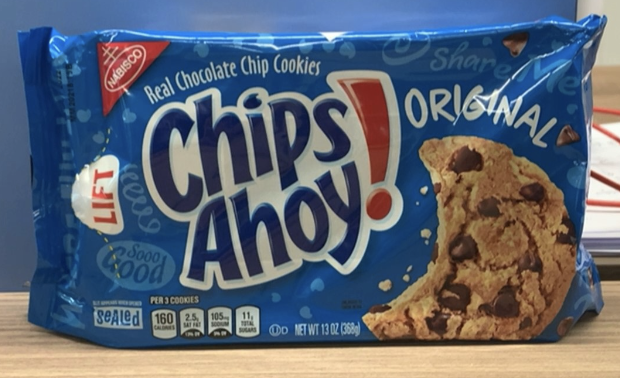cookies_450g: (66, 51, 557, 340)
